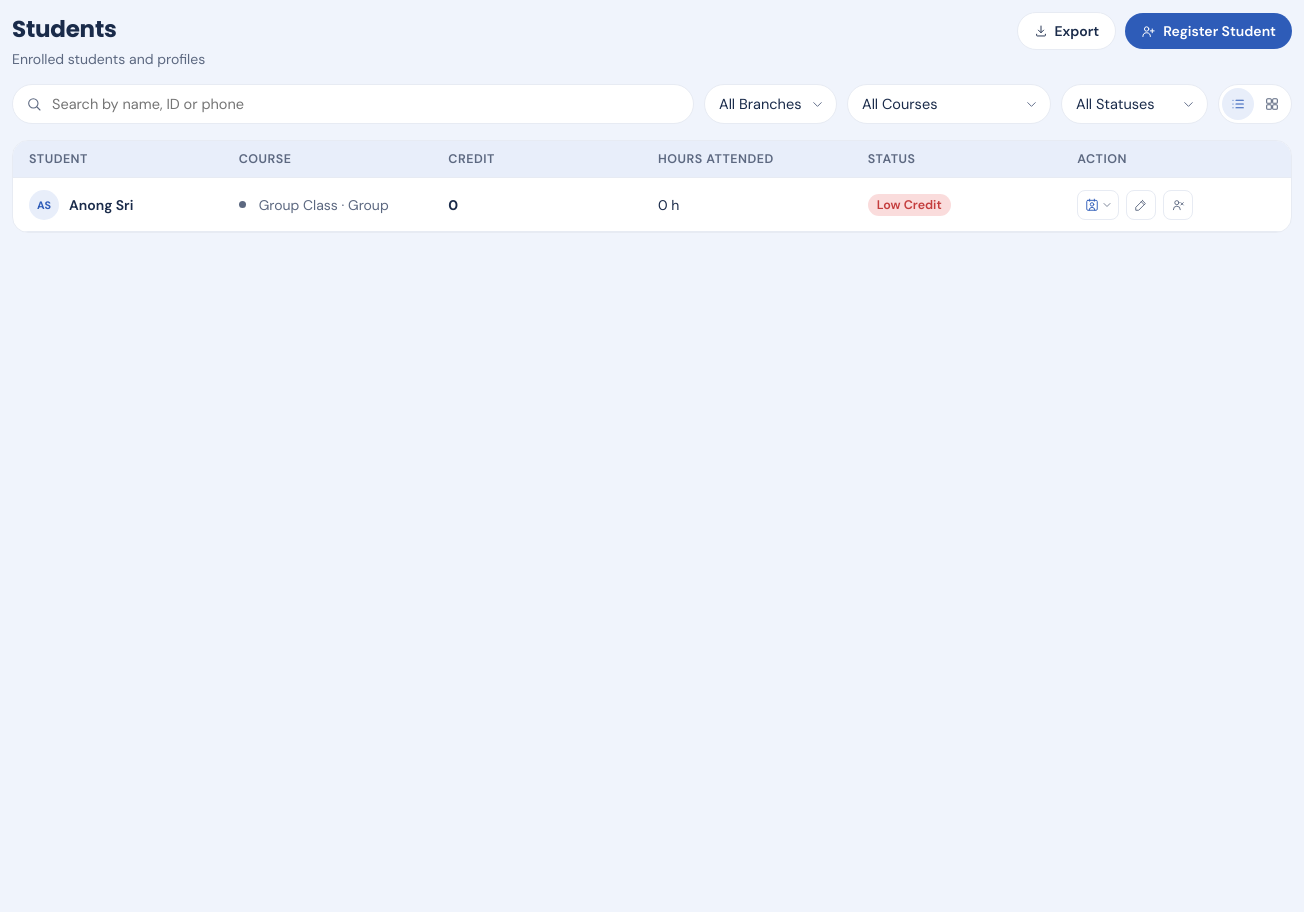
choosing the guardian › saves the relationship, which belongs to the link and nowhere else
Click the text "Anong Sri".
click(101, 204)  # box [69,196,133,214]
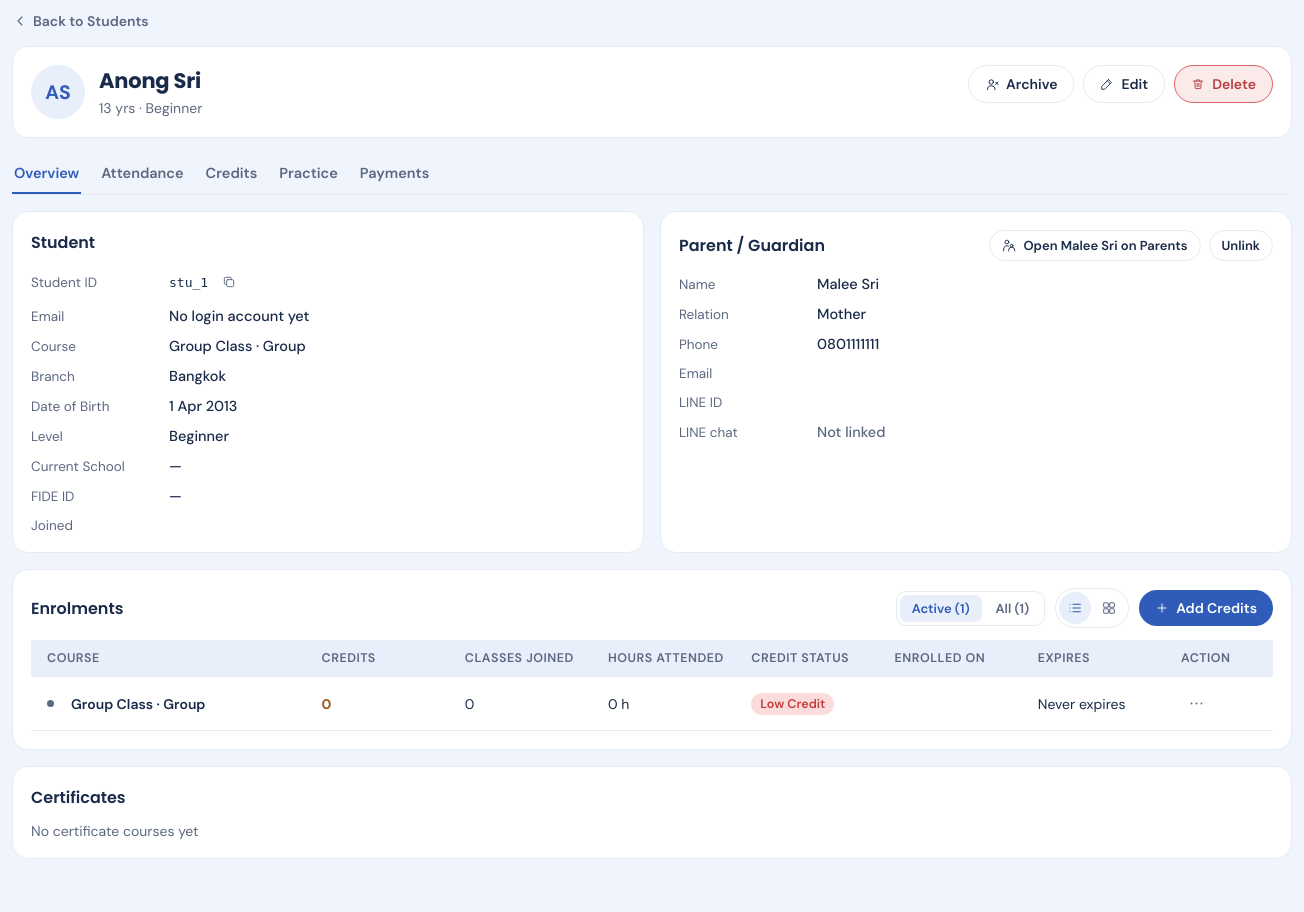
Expected: the button "Back to Students" is shown, [12,12,149,30]
Click the button "Edit".
click(1124, 84)  # box [1084,65,1165,103]
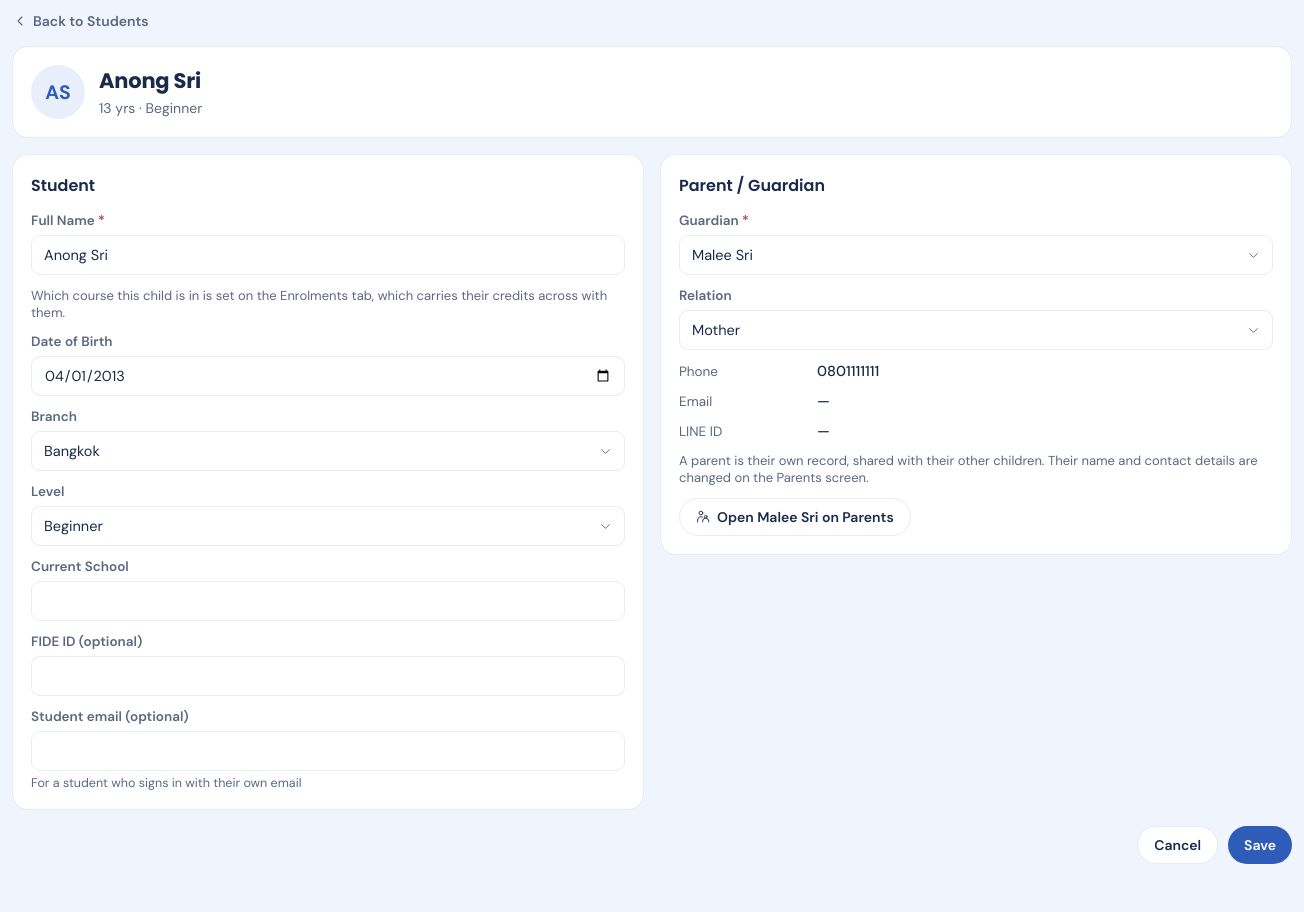
Select "Father" in the dropdown labelled "Relation" at (976, 330), box [679,310,1273,350]
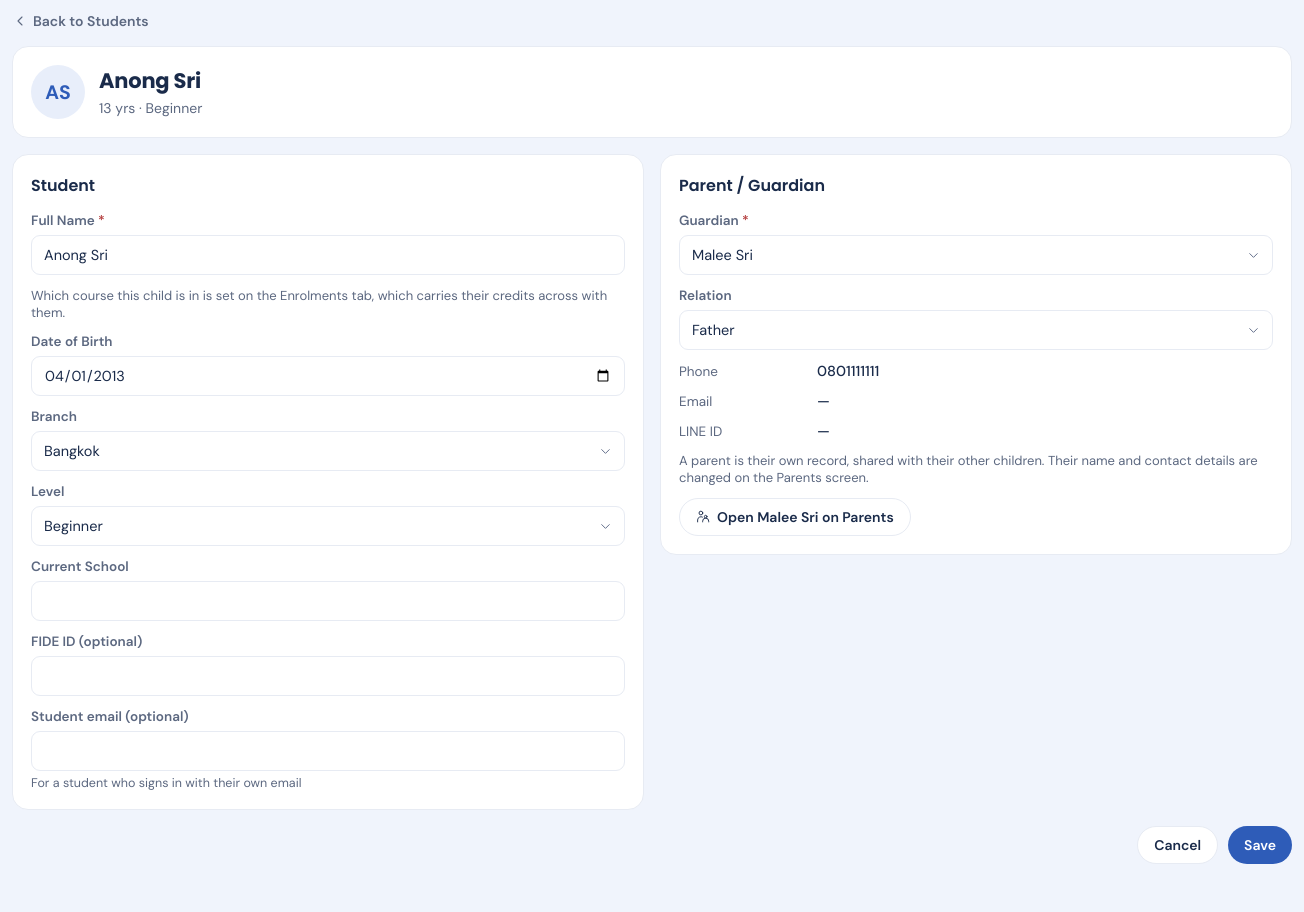
Click the button "Save".
click(1260, 845)  # box [1228,826,1292,864]
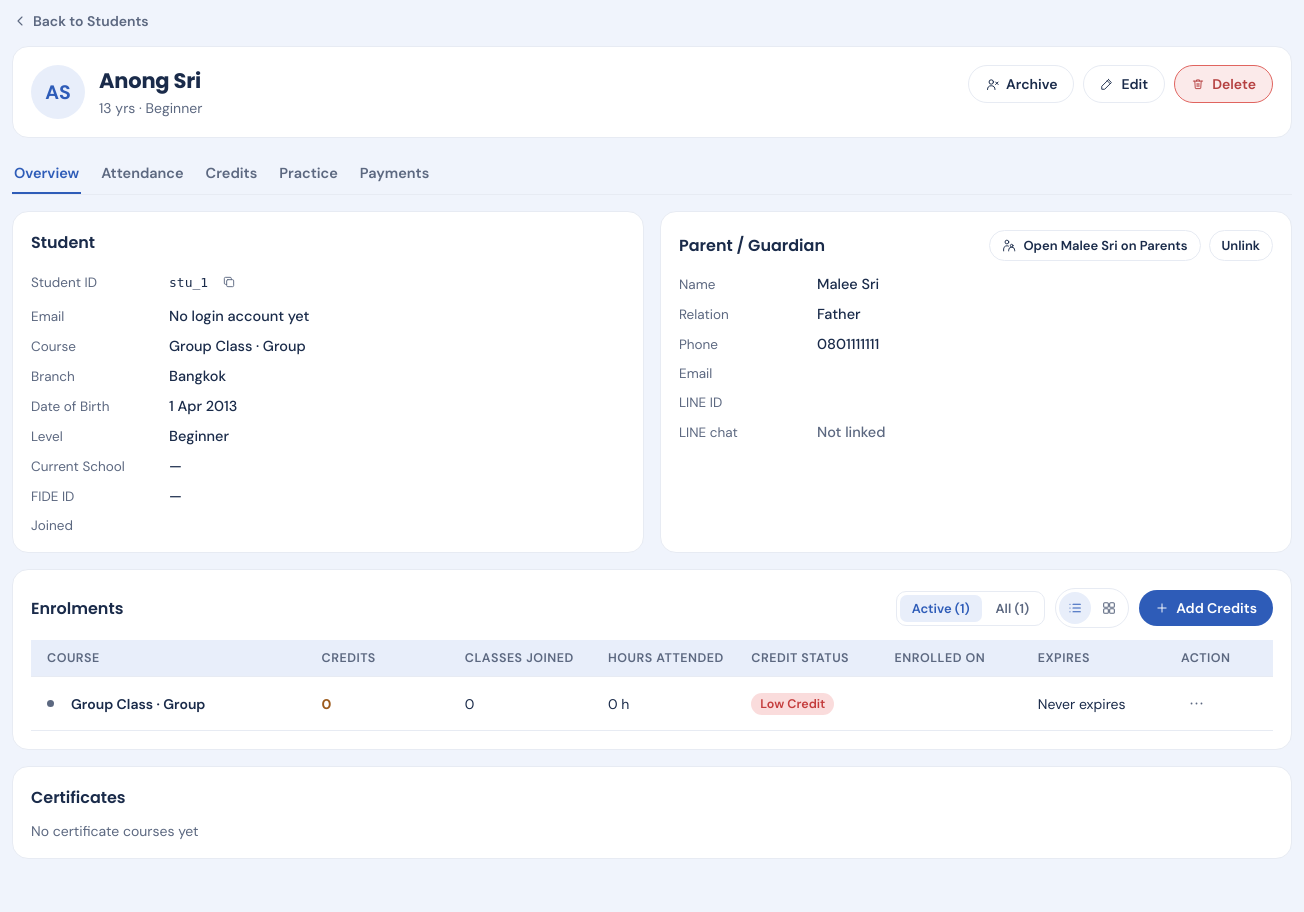
Expected: the text "Father" is shown, [817,305,861,323]
